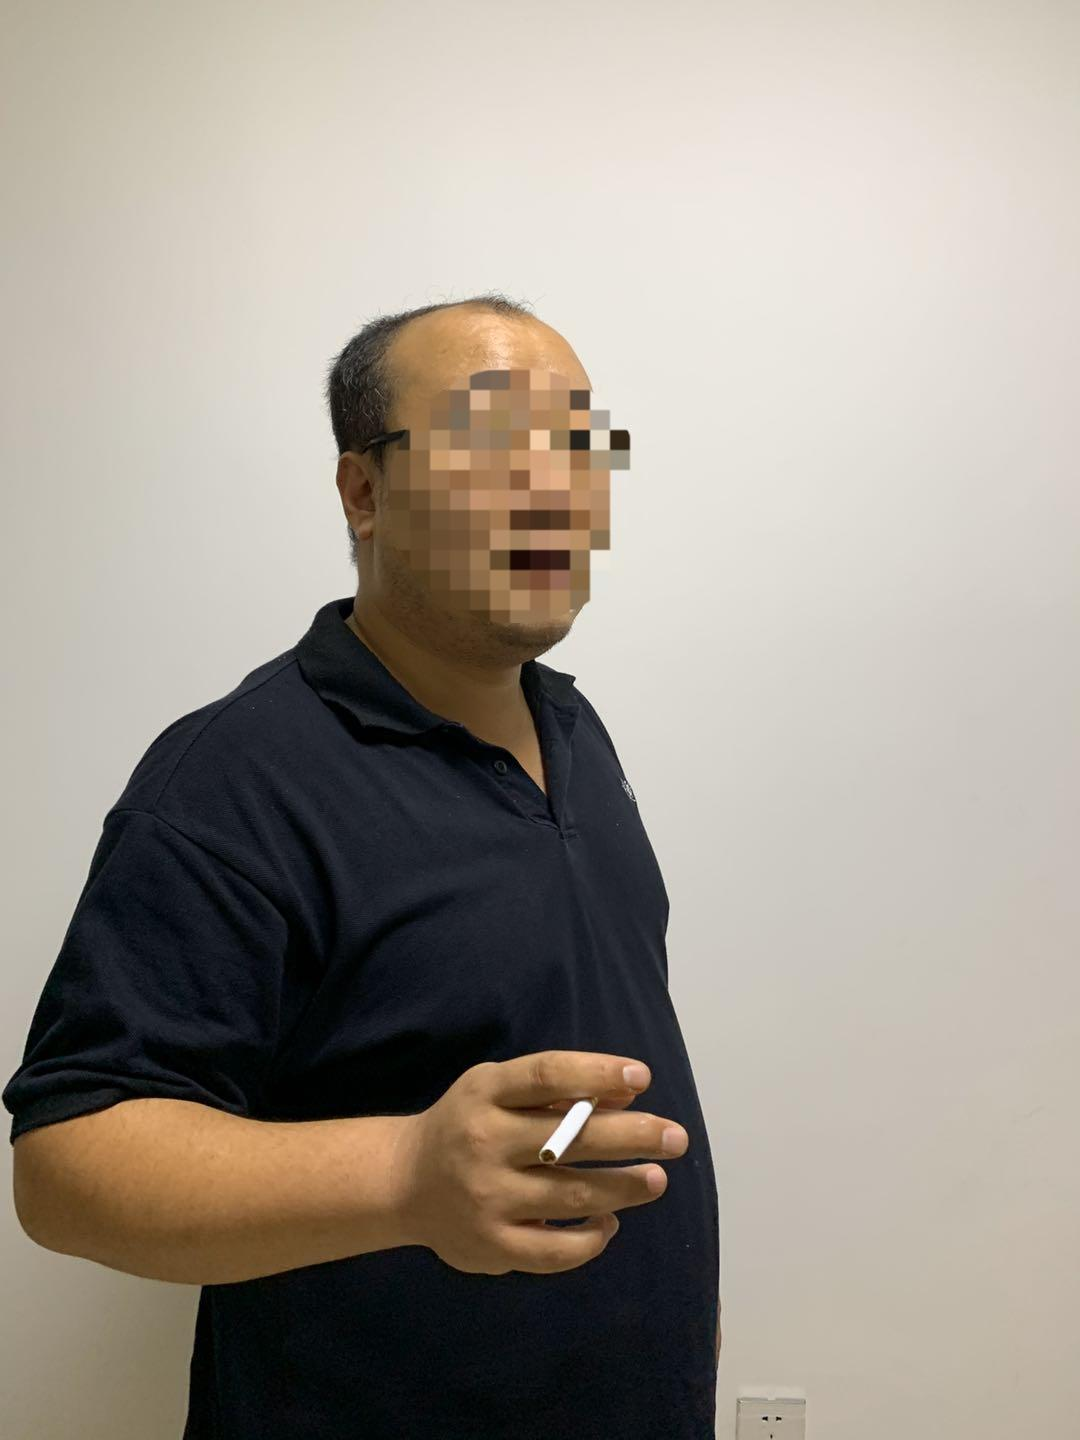smoke: (532, 1101, 604, 1175)
